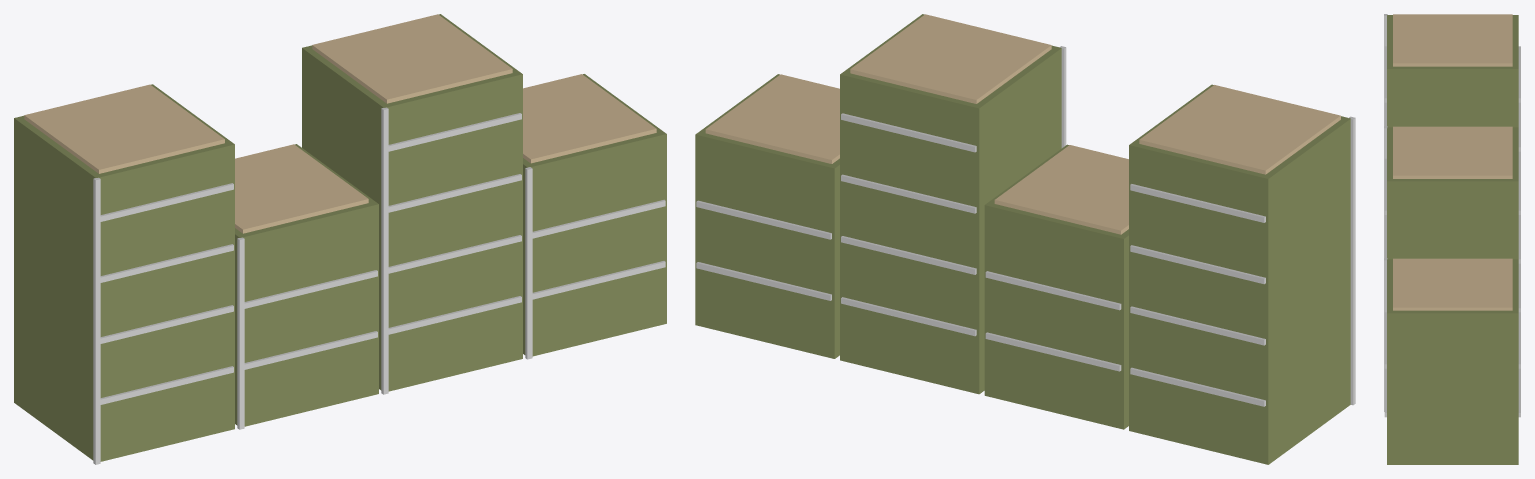
The model's file is SM_HescoCorto4_v2_Escalonado_e0_Sano_LOD0.fbx.
The picture shows the model from 3 angles, left to right: view 1: azimuth 30°, elevation 25°; view 2: azimuth 150°, elevation 25°; view 3: azimuth 270°, elevation 25°; orthographic projection. The views are drawn at different scales.
Visible parts, largest first — view 1: SM_hesco_piezas_v108_LOD0; view 2: SM_hesco_piezas_v108_LOD0; view 3: SM_hesco_piezas_v108_LOD0.
Part boxes in pixels (x1=…): SM_hesco_piezas_v108_LOD0: x1=14, y1=14, x2=666, y2=464; SM_hesco_piezas_v108_LOD0: x1=695, y1=14, x2=1355, y2=464; SM_hesco_piezas_v108_LOD0: x1=1384, y1=14, x2=1520, y2=464.
Size of the model in its own units: 4.42 by 2.13 by 1.14.
